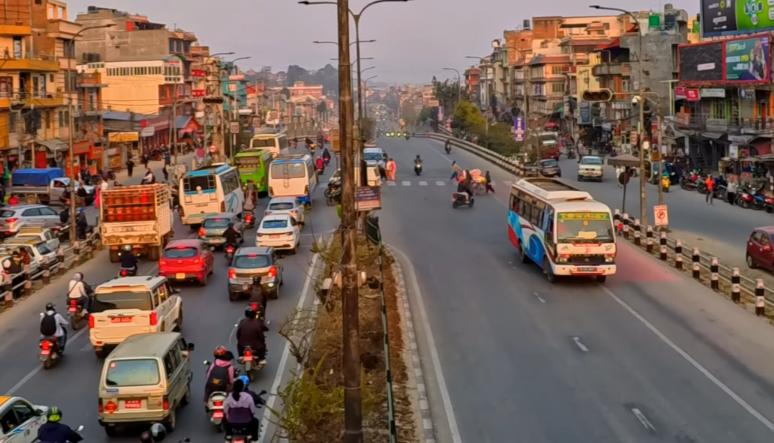SUV: (87, 271, 186, 354)
bus: (506, 160, 621, 291), (178, 162, 250, 229), (264, 153, 317, 202), (232, 148, 276, 190)
car: (226, 241, 285, 302), (157, 236, 218, 285), (251, 214, 304, 253)
mini_truck: (96, 179, 176, 262)
van: (96, 330, 196, 438)
